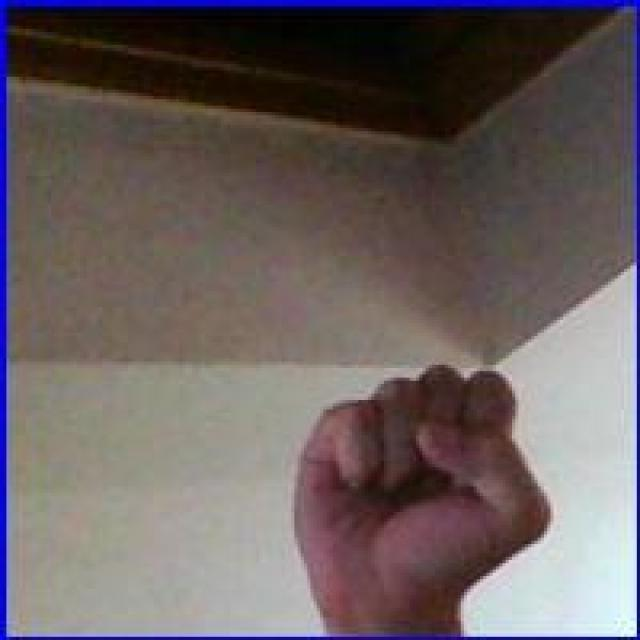S: (283, 360, 552, 606)
